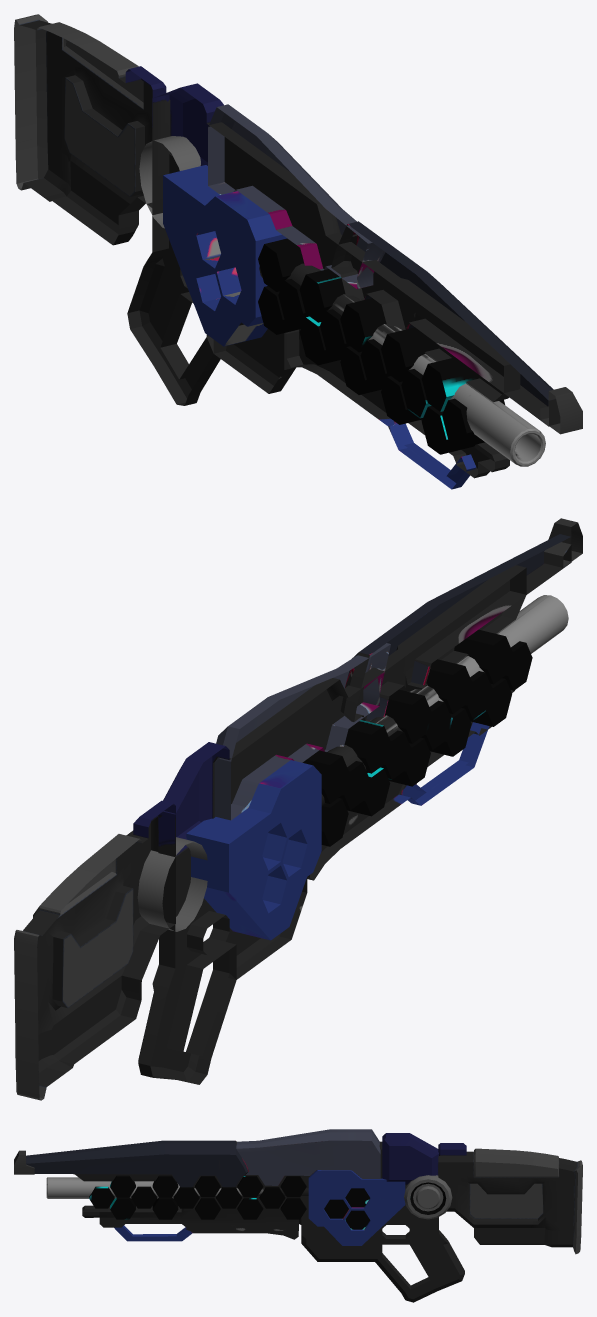
The model's file is PulseRifle.glb.
3 views of the same model, one above another, from view 1: azimuth 30°, elevation 25°; view 2: azimuth 150°, elevation 25°; view 3: azimuth 270°, elevation 25° (orthographic). The views are drawn at different scales.
Visible parts, largest first — view 1: Body, Stock, Cylinder.001, Cube, Cube.001, Cube.002, Cylinder, Cylinder.002, Sights; view 2: Body, Stock, Cylinder.001, Cube, Cube.001, Cube.002, Cylinder, Cylinder.002, Sights; view 3: Body, Stock, Cube.001, Cylinder.001, Cube.002, Cube, Cylinder.002, Cylinder, Sights.
Part boxes in pixels (box(x1,y1,x2,y2)): Body: box(127, 83, 520, 489); Stock: box(14, 14, 170, 245); Cylinder.001: box(258, 238, 504, 454); Cube: box(163, 165, 286, 346); Cube.001: box(331, 221, 560, 426); Cube.002: box(208, 104, 385, 288); Cylinder: box(259, 263, 545, 466); Cylinder.002: box(139, 136, 200, 228); Sights: box(540, 387, 582, 434); Body: box(138, 565, 526, 1084); Stock: box(14, 800, 175, 1100); Cylinder.001: box(302, 629, 532, 846); Cube: box(186, 760, 321, 940); Cube.001: box(340, 534, 571, 721); Cube.002: box(214, 643, 390, 820); Cylinder: box(321, 595, 568, 806); Cylinder.002: box(137, 837, 207, 931); Sights: box(544, 518, 582, 567); Body: box(75, 1133, 464, 1302); Stock: box(438, 1143, 582, 1254); Cube.001: box(26, 1140, 248, 1187); Cylinder.001: box(89, 1175, 306, 1219); Cube.002: box(236, 1129, 380, 1185); Cube: box(308, 1170, 405, 1245); Cylinder.002: box(404, 1175, 452, 1219); Cylinder: box(46, 1177, 308, 1198); Sights: box(14, 1150, 34, 1174).
Size of the model in its own units: 0.4479 by 2.67 by 8.09.
1 material, 1 textured.
